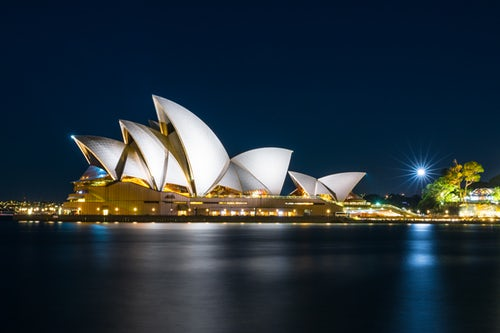opera house: (52, 85, 391, 227)
